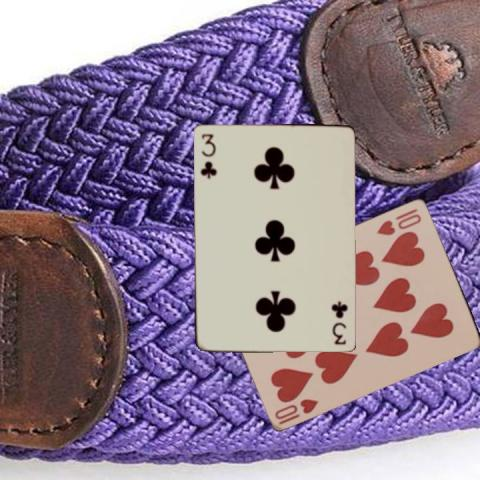10h: (374, 204, 424, 236), (271, 395, 320, 426)
3c: (197, 130, 218, 179), (330, 298, 349, 346)
